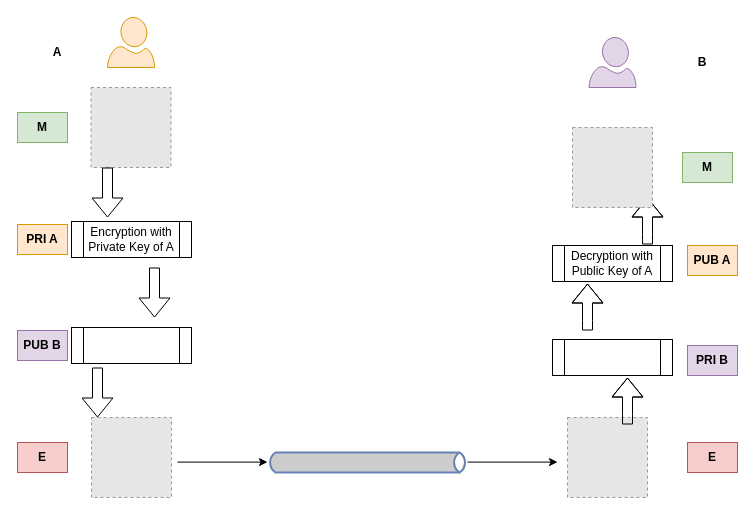
The diagram is 755 pixels wide and 515 high, and some of its shapes have lost their labels. Grey dashed boxes stand in for pictures. Here are the shapes that lost their labels. From the top down, the centre of each, then its label:
[131,345]: Encryption with Public Key of B
[612,357]: Decryption with Private Key of B
[367,462]: Unsecured Medium
